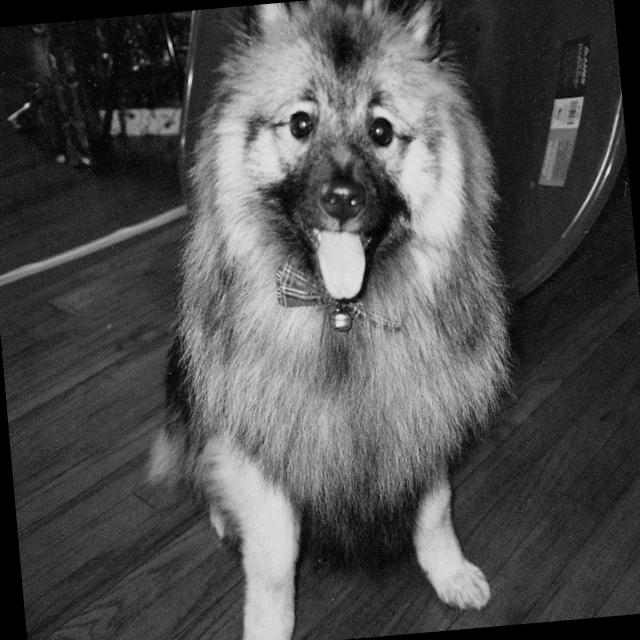sitting: (110, 0, 549, 640)
